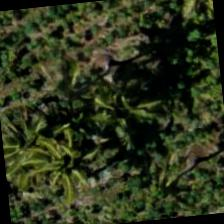Kelapa_Sawit: (0, 105, 91, 204)
